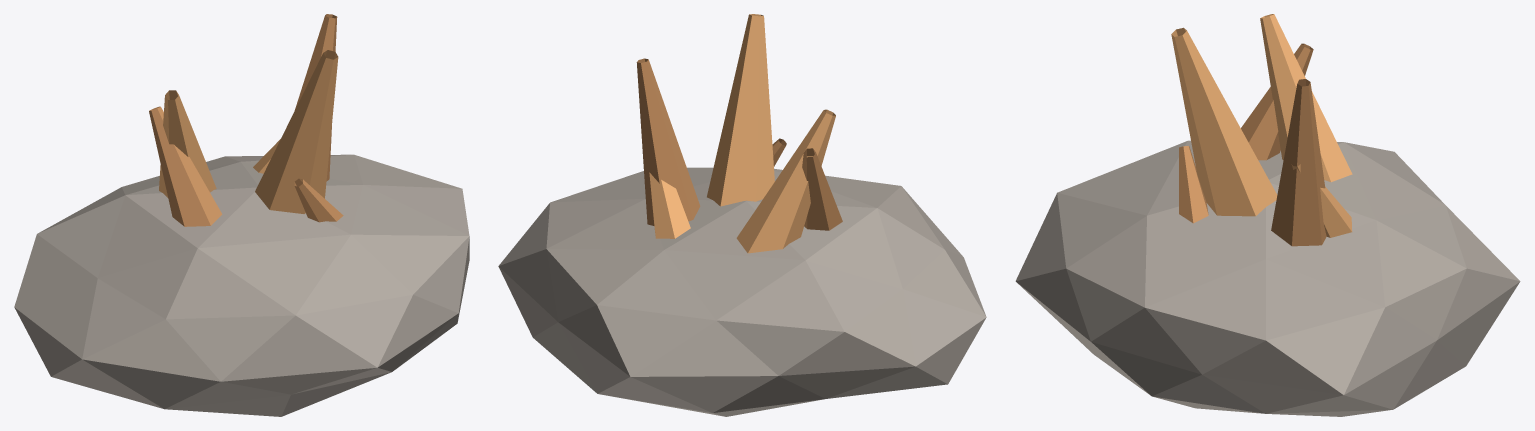
Rendered from 15-Recursos_veta_cobre.glb.
The picture shows the model from 3 angles, left to right: view 1: azimuth 30°, elevation 25°; view 2: azimuth 150°, elevation 25°; view 3: azimuth 270°, elevation 25°; orthographic projection. The views are drawn at different scales.
Parts seen in each view (by area): view 1: SM_Roca_VetaCobre, SM_Cristal_0, SM_Cristal_3, SM_Cristal_2, SM_Cristal_1, SM_Cristal_5; view 2: SM_Roca_VetaCobre, SM_Cristal_0, SM_Cristal_2, SM_Cristal_1, SM_Cristal_3, SM_Cristal_4; view 3: SM_Roca_VetaCobre, SM_Cristal_0, SM_Cristal_1, SM_Cristal_2, SM_Cristal_3, SM_Cristal_5, SM_Cristal_4.
Part boxes in pixels (left/top/right/bottom): SM_Roca_VetaCobre: left=14, top=154, right=469, bottom=416; SM_Cristal_0: left=255, top=50, right=338, bottom=213; SM_Cristal_3: left=149, top=106, right=222, bottom=226; SM_Cristal_2: left=159, top=90, right=216, bottom=197; SM_Cristal_1: left=294, top=14, right=337, bottom=180; SM_Cristal_5: left=294, top=178, right=343, bottom=222; SM_Roca_VetaCobre: left=498, top=167, right=986, bottom=416; SM_Cristal_0: left=707, top=14, right=774, bottom=206; SM_Cristal_2: left=736, top=109, right=835, bottom=253; SM_Cristal_1: left=636, top=58, right=700, bottom=225; SM_Cristal_3: left=802, top=148, right=842, bottom=230; SM_Cristal_4: left=649, top=172, right=690, bottom=238; SM_Roca_VetaCobre: left=1015, top=140, right=1520, bottom=416; SM_Cristal_0: left=1171, top=27, right=1277, bottom=216; SM_Cristal_1: left=1271, top=79, right=1326, bottom=246; SM_Cristal_2: left=1260, top=14, right=1352, bottom=182; SM_Cristal_3: left=1241, top=43, right=1313, bottom=160; SM_Cristal_5: left=1179, top=146, right=1208, bottom=223; SM_Cristal_4: left=1292, top=164, right=1352, bottom=237.
Bounding box in the file's own units: 2.8 × 2.1 × 2.67.
